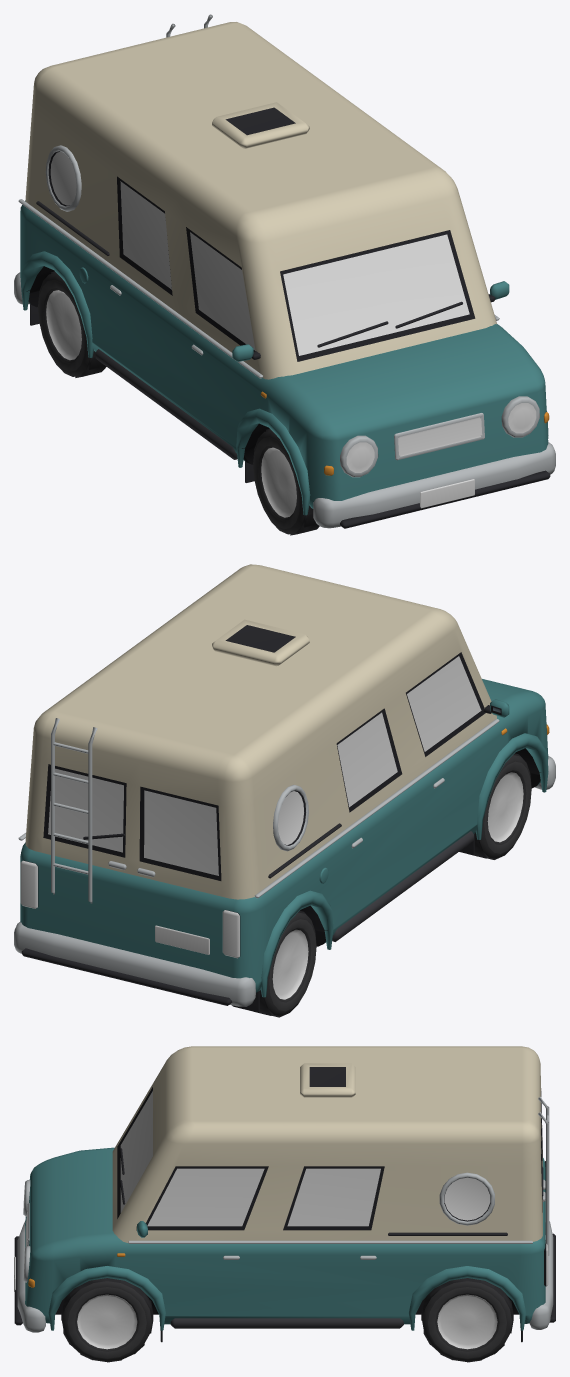
File: Van.fbx
The picture shows the model from 3 angles, top to bottom: view 1: azimuth 30°, elevation 25°; view 2: azimuth 150°, elevation 25°; view 3: azimuth 270°, elevation 25°; orthographic projection. The views are drawn at different scales.
Visible parts, largest first — view 1: Body, Wheel.FR, Wheel.RR; view 2: Body, Wheel.RR, Wheel.FR; view 3: Body, Wheel.RL, Wheel.FL.
Part boxes in pixels (left/top/right/bottom): Body: left=14, top=14, right=555, bottom=528; Wheel.FR: left=253, top=429, right=319, bottom=535; Wheel.RR: left=38, top=271, right=106, bottom=377; Body: left=14, top=564, right=555, bottom=1012; Wheel.RR: left=258, top=911, right=316, bottom=1017; Wheel.FR: left=472, top=753, right=531, bottom=859; Body: left=14, top=1046, right=555, bottom=1342; Wheel.RL: left=421, top=1278, right=513, bottom=1362; Wheel.FL: left=61, top=1278, right=153, bottom=1362.
Size of the model in its own units: 1.91 by 1.91 by 3.88.
